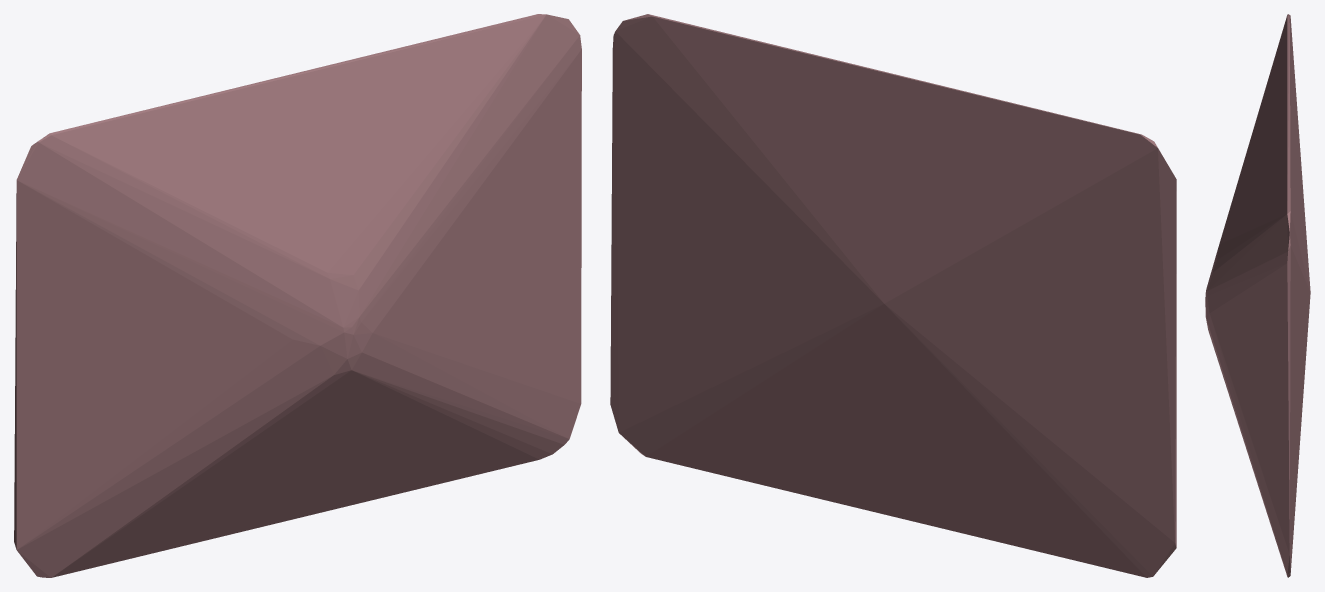
File: computer_mouse_office_b01.glb
The picture shows the model from 3 angles, left to right: view 1: azimuth 30°, elevation 25°; view 2: azimuth 150°, elevation 25°; view 3: azimuth 270°, elevation 25°; orthographic projection. The views are drawn at different scales.
Parts seen in each view (by area): view 1: geometry_0; view 2: geometry_0; view 3: geometry_0.
Part boxes in pixels (x1,y1,x2,y2): geometry_0: (14,14,581,577); geometry_0: (610,14,1176,577); geometry_0: (1205,14,1310,577).
Bounding box in the file's own units: 0.4793 × 0.3597 × 0.0943.
